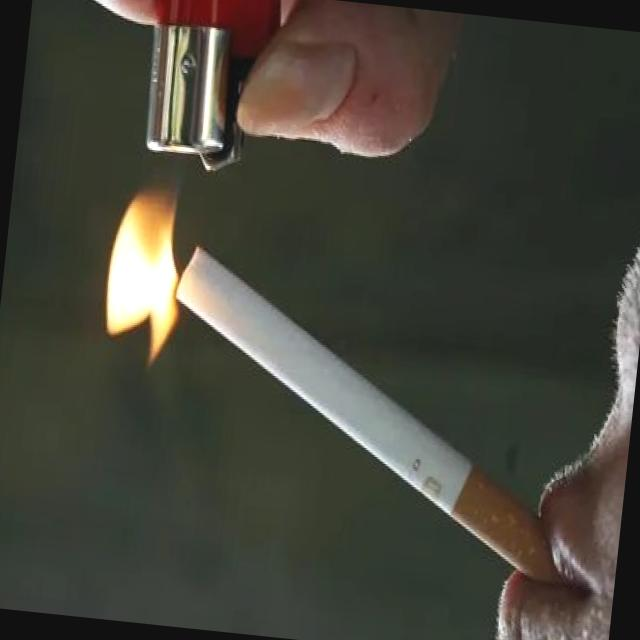smoke: (145, 240, 590, 594)
